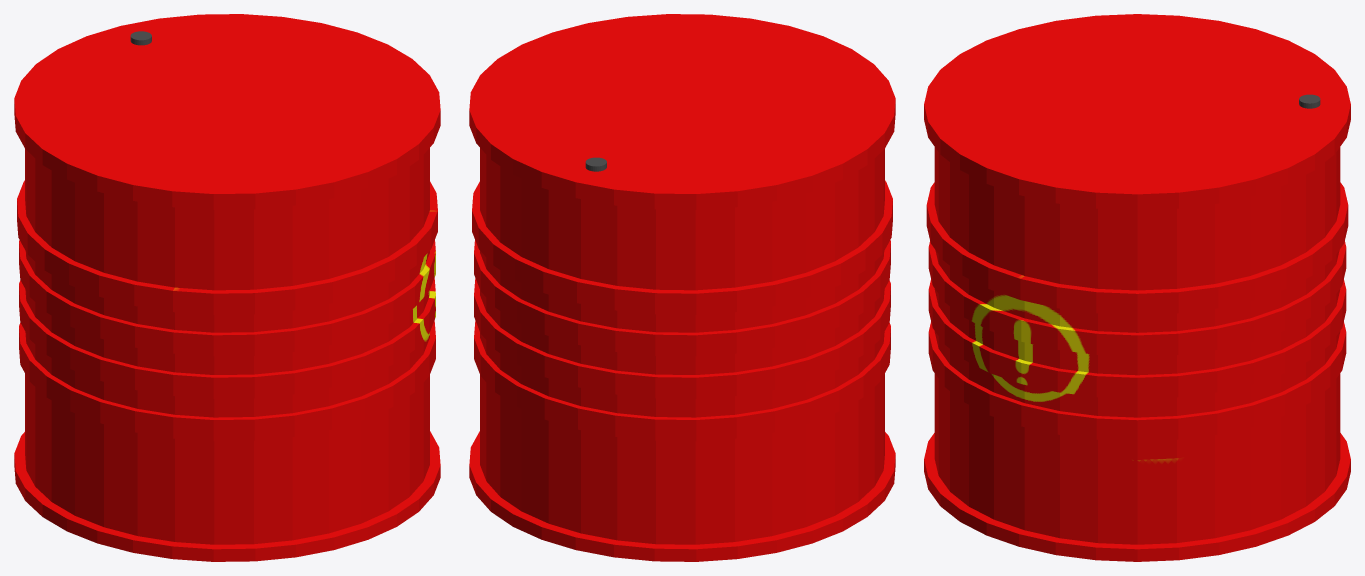
Rendered from explosive_barrel.gltf.
3 views of the same model, side by side, from view 1: azimuth 30°, elevation 25°; view 2: azimuth 150°, elevation 25°; view 3: azimuth 270°, elevation 25° (orthographic).
Parts seen in each view (by area): view 1: Cylinder; view 2: Cylinder; view 3: Cylinder.
Boxes of the visible parts, bbox=[...] form: Cylinder: bbox=[14, 14, 440, 561]; Cylinder: bbox=[469, 14, 895, 561]; Cylinder: bbox=[924, 14, 1350, 561].
Size of the model in its own units: 2.1 by 2.03 by 2.1.
2 materials, 1 textured.
